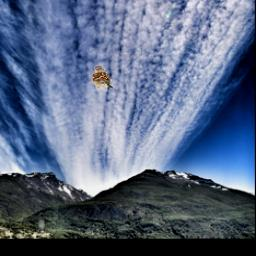Sparrow: (91, 66, 113, 92)
